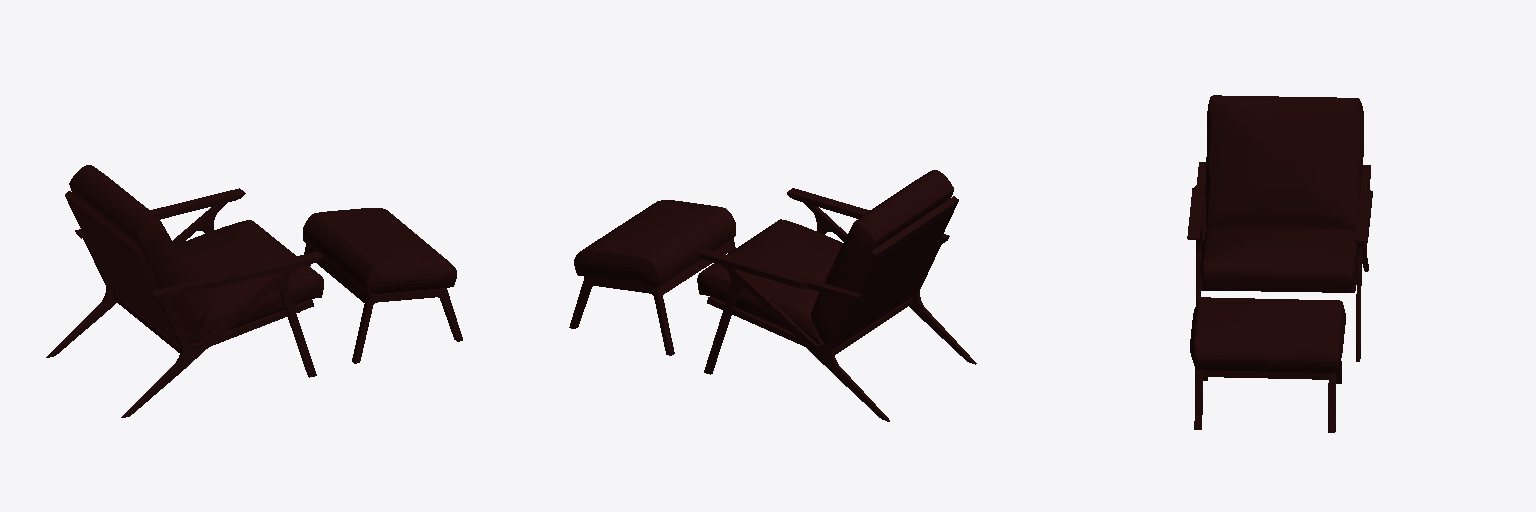
The model's file is restchair.obj.
3 renders of one model, left to right at view 1: azimuth 30°, elevation 25°; view 2: azimuth 150°, elevation 25°; view 3: azimuth 270°, elevation 25°, orthographic.
Visible parts, largest first — view 1: armchair_001; view 2: armchair_001; view 3: armchair_001.
Part boxes in pixels (x1,y1,x2,y2): armchair_001: (46, 165, 462, 417); armchair_001: (569, 170, 976, 421); armchair_001: (1187, 95, 1372, 432).
Bounding box in the file's own units: 89.32 × 46.69 × 41.76.